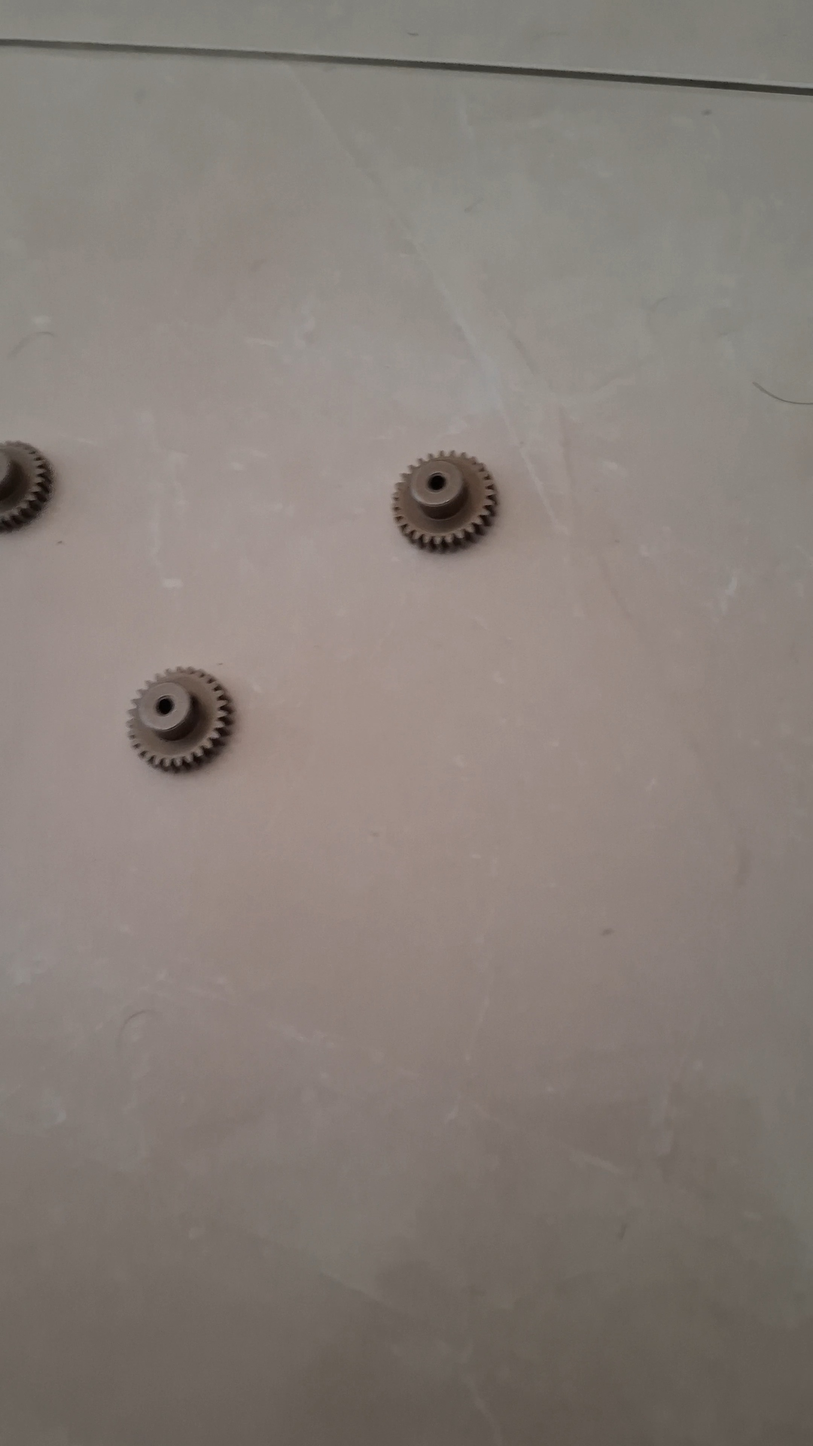spur gear: (129, 670, 232, 771), (393, 452, 497, 551), (0, 442, 52, 530)
